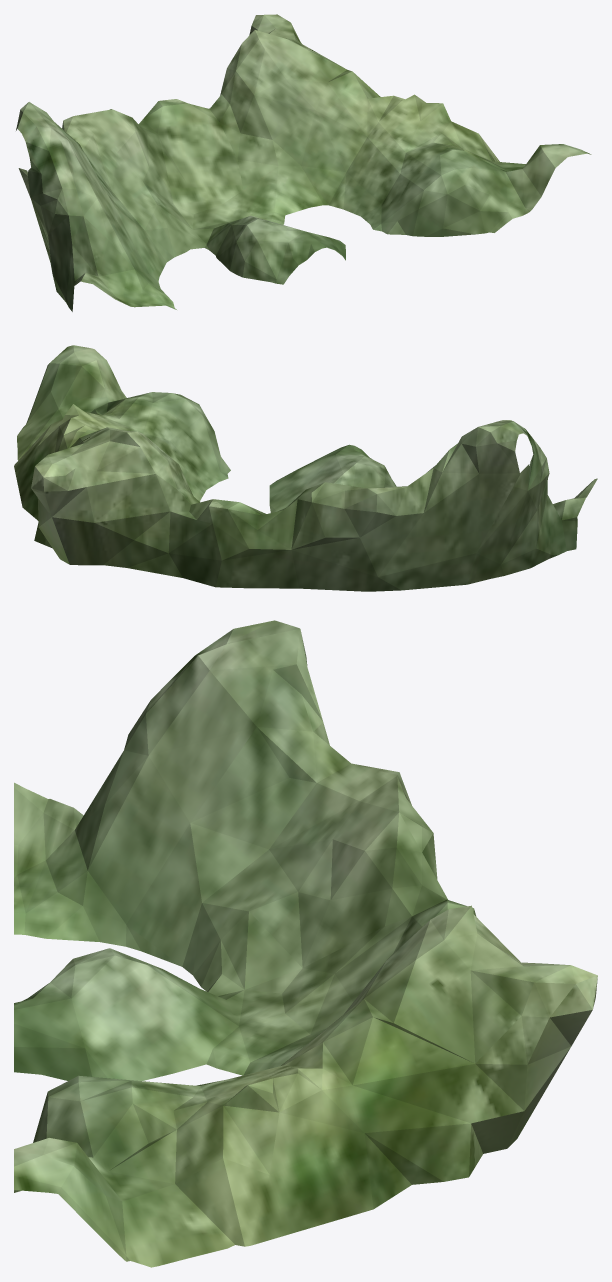
3 views of the same model, one above another, from view 1: azimuth 30°, elevation 25°; view 2: azimuth 150°, elevation 25°; view 3: azimuth 270°, elevation 25° (orthographic). The views are drawn at different scales.
Bounding box in the file's own units: 2.95 × 0.886 × 1.82.
Materials: 2 (2 with a texture image).
